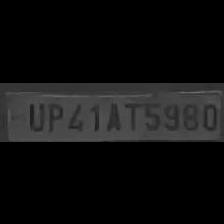0: (198, 100, 220, 130)
1: (86, 97, 104, 132)
4: (63, 97, 85, 132)
5: (138, 98, 160, 132)
8: (179, 98, 199, 132)
9: (160, 98, 180, 132)
A: (100, 97, 122, 132)
P: (43, 99, 63, 133)
T: (122, 97, 142, 132)
U: (24, 98, 44, 132)
